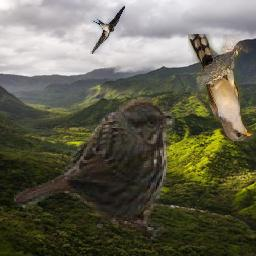Cuckoo: (188, 35, 254, 142)
Sparrow: (15, 94, 176, 242)
Swallow: (91, 4, 126, 54)
